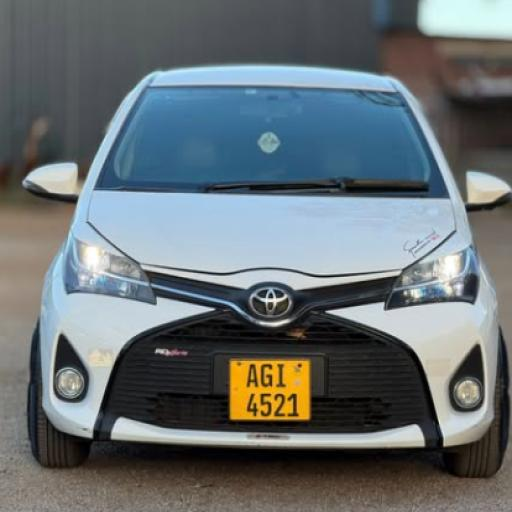number-plates: (230, 362, 308, 418)
